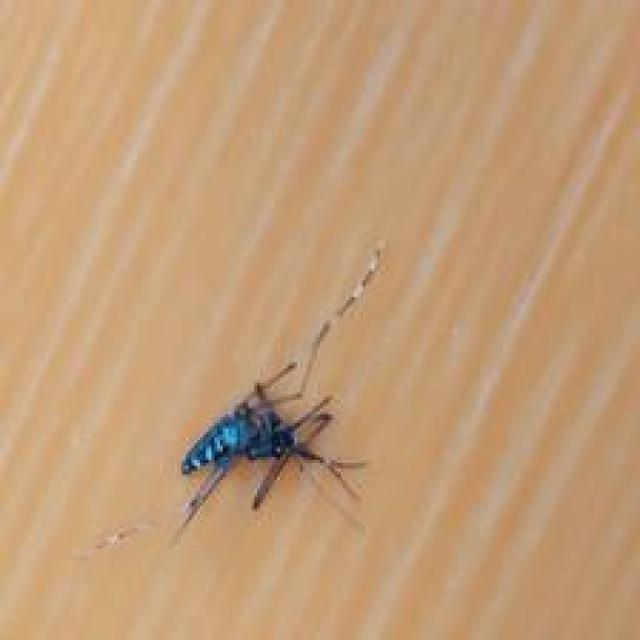Aedes albopictus: (167, 357, 370, 549)
